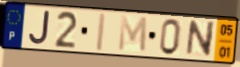0: (158, 17, 183, 57)
2: (54, 10, 80, 50)
I: (94, 11, 109, 53)
J: (27, 10, 51, 47)
M: (117, 14, 149, 55)
N: (184, 20, 217, 58)
